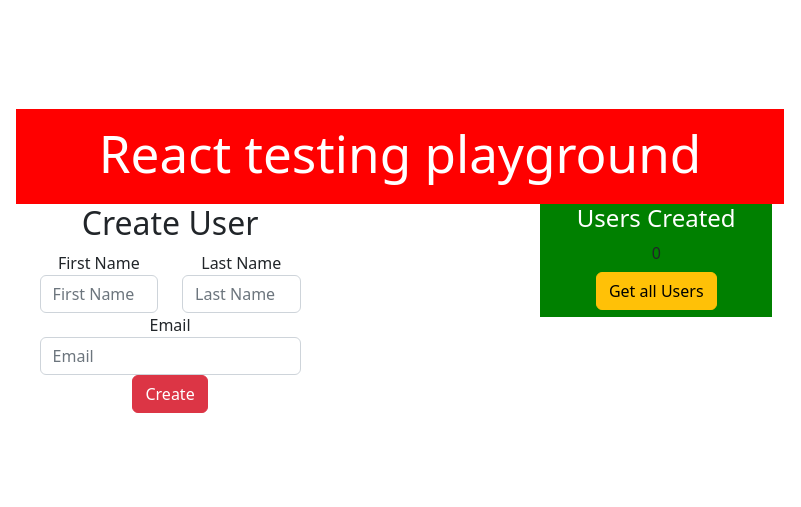
App › fetches all users
The image size is (801, 507).
Click the button "Get all Users". click: click(656, 291)
box: [596,272,717,310]
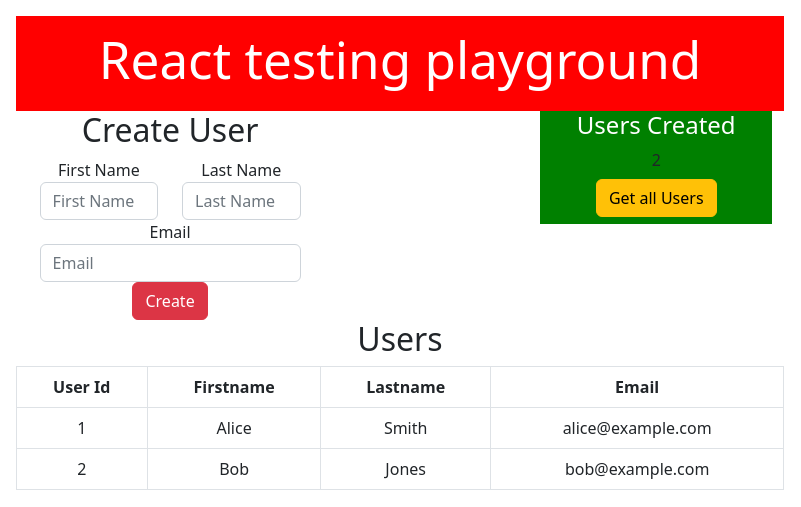
Expected: the text "Alice" is shown, [147,407,321,448]
Expected: the text "alice@example.com" is shown, [490,407,784,448]
